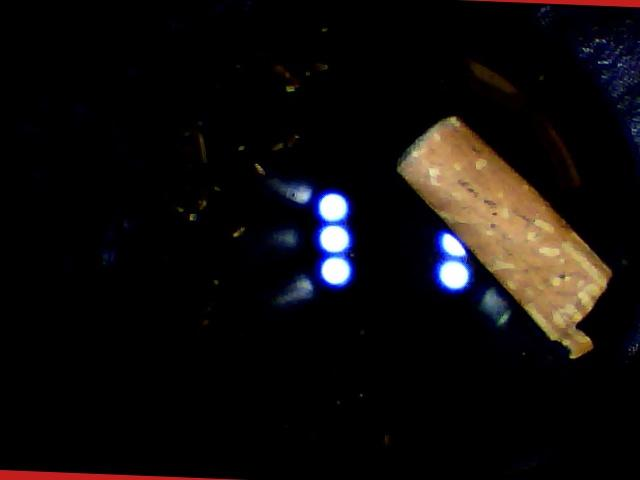megot: (380, 110, 639, 369)
